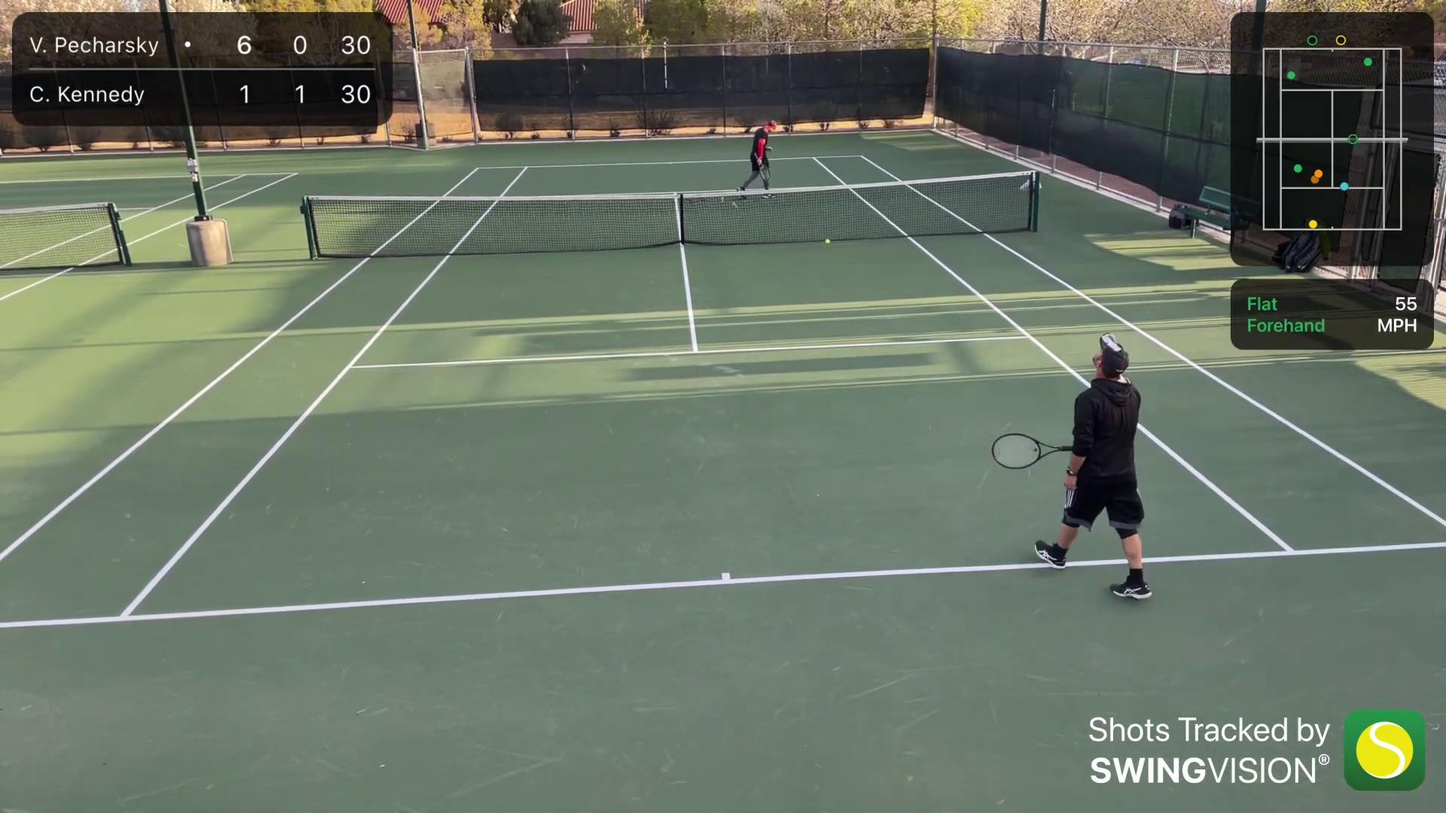ball: (824, 236, 832, 245), (225, 371, 230, 376)
